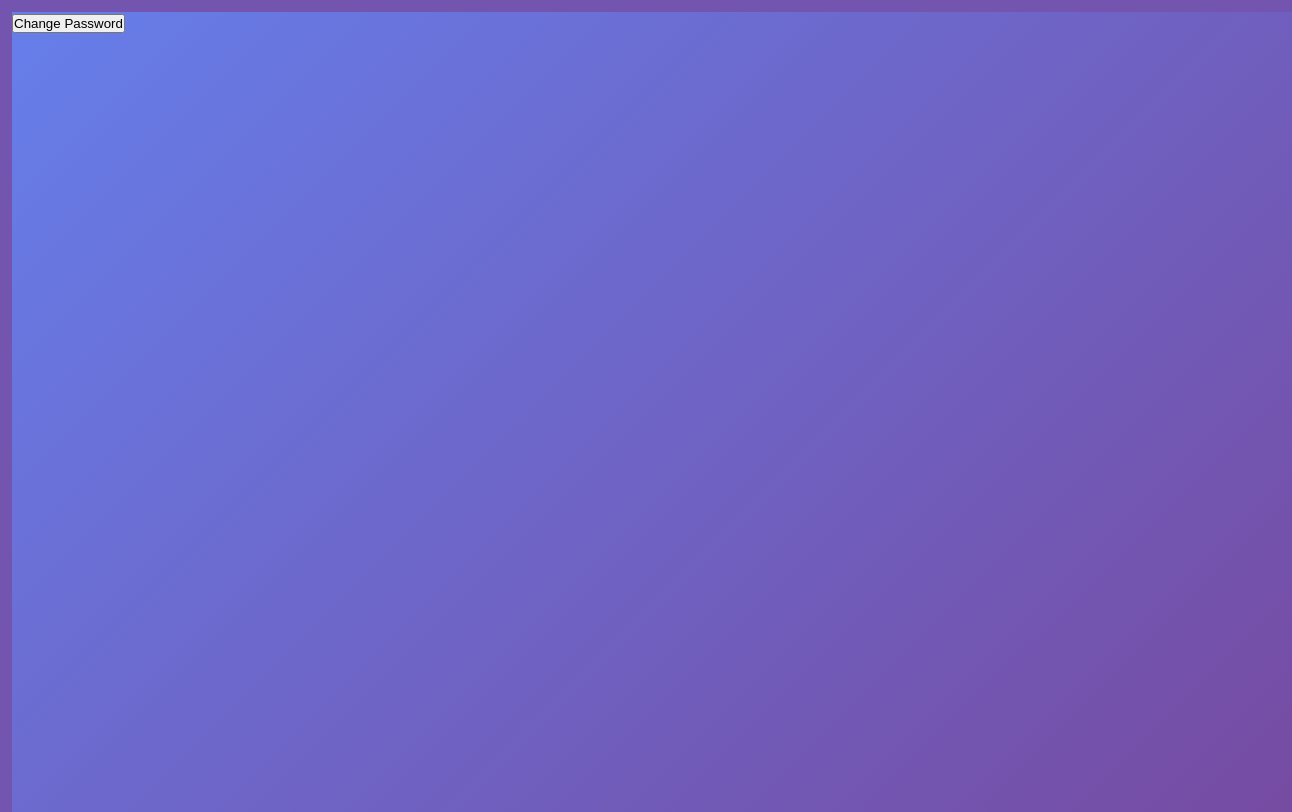
Test: ChangePassword › open the change password form
The image size is (1292, 812).
Click the button "Change Password" at (68, 24), box left=12, top=14, right=125, bottom=33
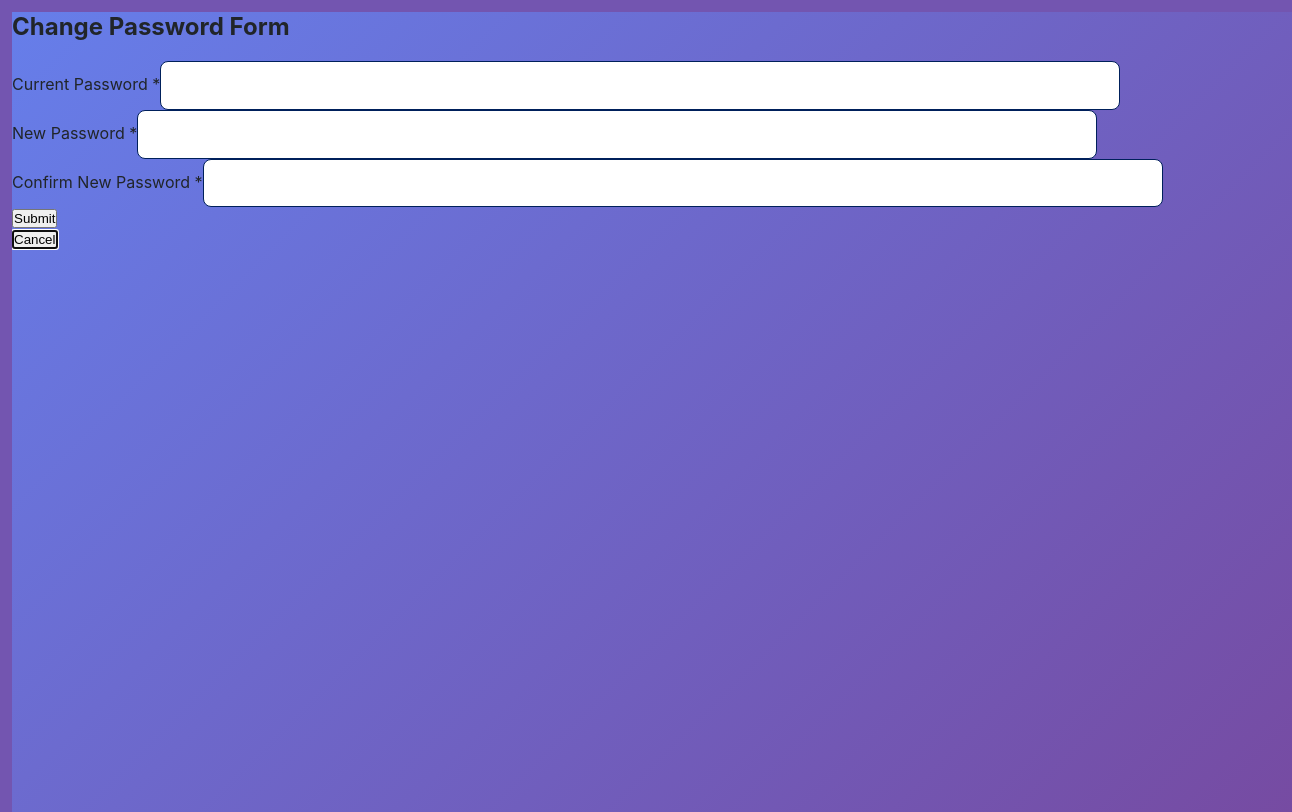
Now the heading "Change Password Form" is shown, box left=12, top=12, right=290, bottom=41
Now the password field labelled "Current Password *" is shown, box left=160, top=61, right=1120, bottom=110
Now the password field labelled "New Password *" is shown, box left=137, top=110, right=1097, bottom=159
